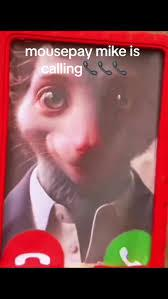mouse-pay: (11, 39, 153, 268)
